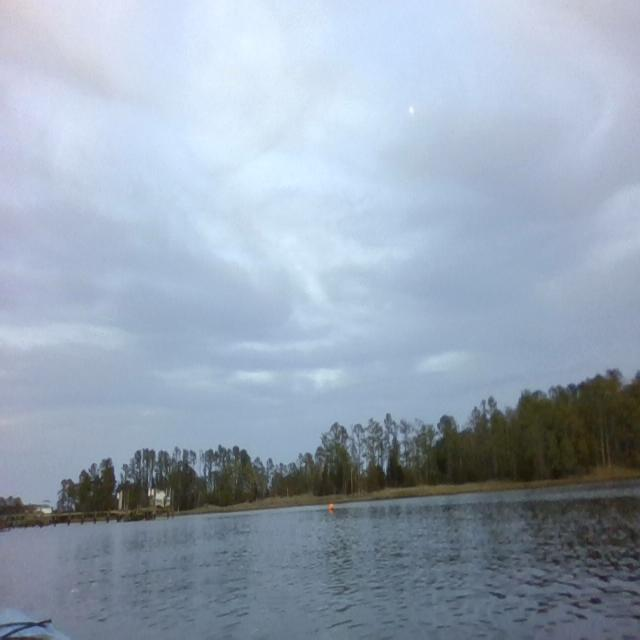Buoy: (328, 500, 336, 514)
